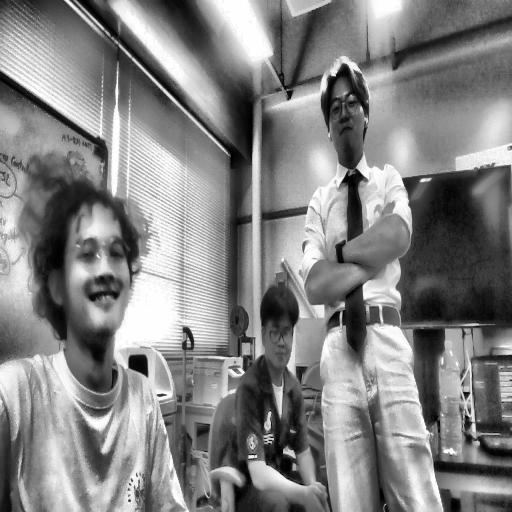Daifuku: (32, 157, 167, 368)
Not Daifuku: (317, 59, 373, 161), (258, 278, 295, 376)
